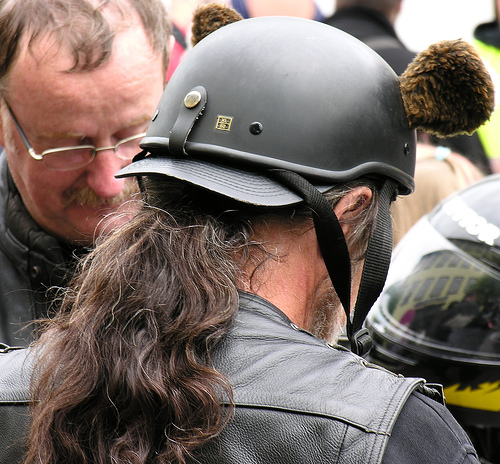helmet: (143, 17, 445, 188)
